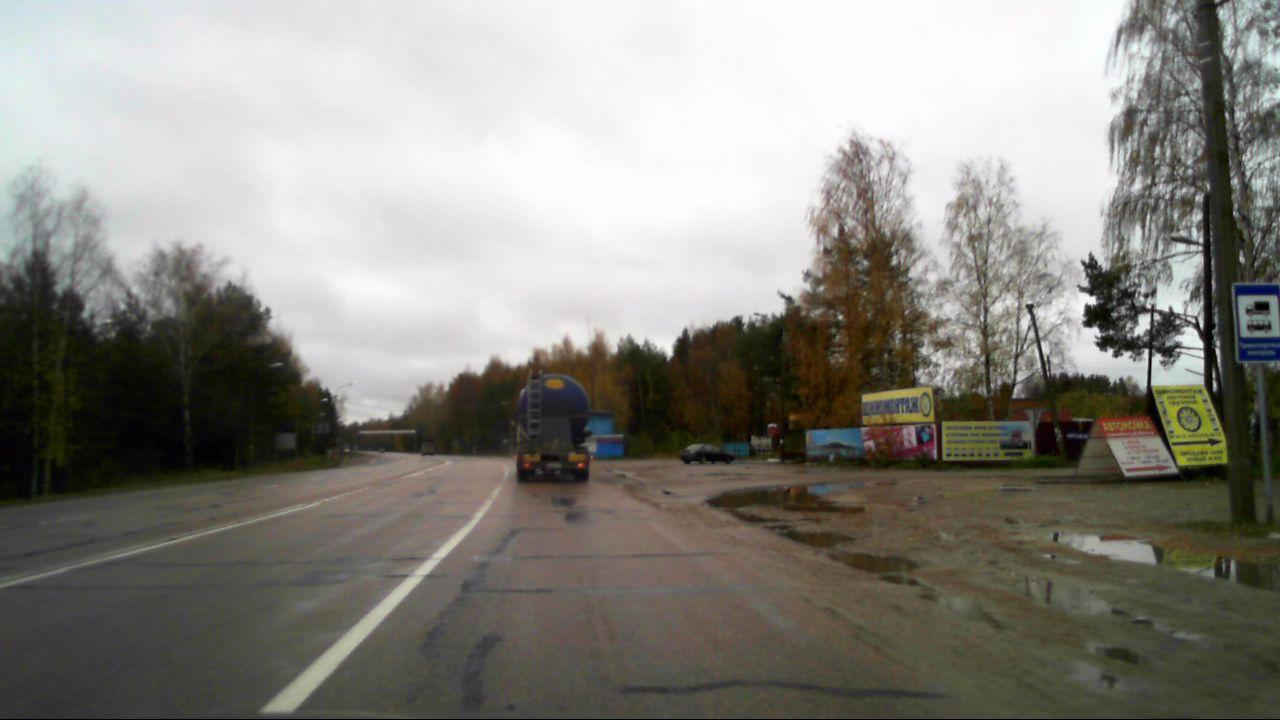road_sign: (1232, 281, 1280, 365)
